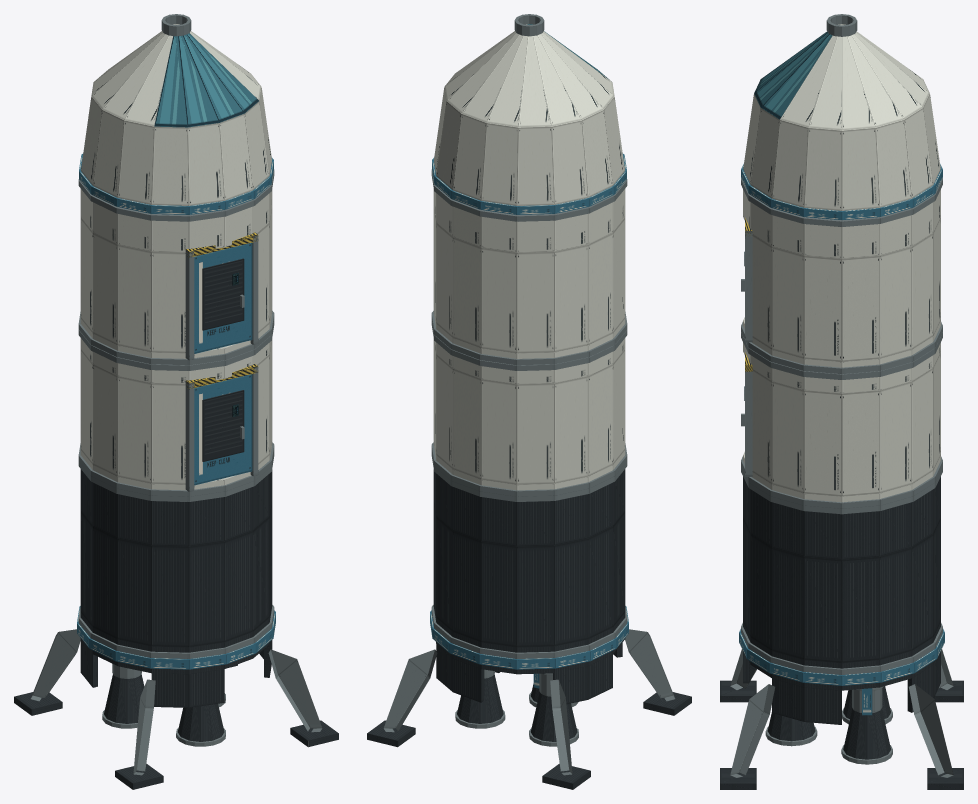
The model's file is rocket-wayfarer.glb.
3 views of the same model, side by side, from view 1: azimuth 30°, elevation 25°; view 2: azimuth 150°, elevation 25°; view 3: azimuth 270°, elevation 25° (orthographic). The views are drawn at different scales.
Parts seen in each view (by area): view 1: 02_TankSection_hull, 05_CommandCapsule_hull, 04_PassengerCabin_hull, 03_ServiceBay_hull, Door leaf (×2), 05_CommandCapsule_glass, 04_PassengerCabin_frame, Door inset (×2), 03_ServiceBay_frame, 01_Propulsion_hull, 02_TankSection_frame, LEG_01_landing_leg (+8 smaller); view 2: 02_TankSection_hull, 04_PassengerCabin_hull, 05_CommandCapsule_hull, 03_ServiceBay_hull, 01_Propulsion_hull, 04_PassengerCabin_frame, 03_ServiceBay_frame, 02_TankSection_frame, LEG_02_landing_leg, 01_Propulsion_frame, LEG_04_landing_leg, LEG_03_landing_leg (+5 smaller); view 3: 02_TankSection_hull, 04_PassengerCabin_hull, 05_CommandCapsule_hull, 03_ServiceBay_hull, 04_PassengerCabin_frame, 03_ServiceBay_frame, 01_Propulsion_hull, 02_TankSection_frame, ENGINE_02_engine, 05_CommandCapsule_glass, LEG_01_landing_leg, LEG_02_landing_leg (+7 smaller).
Part boxes in pixels (x1,y1,x2,y2): 02_TankSection_hull: (80,469,272,652); 05_CommandCapsule_hull: (81,24,271,205); 04_PassengerCabin_hull: (80,189,272,358); 03_ServiceBay_hull: (80,338,272,490); Door leaf (×2): (194,242,252,485); 05_CommandCapsule_glass: (154,33,258,127); 04_PassengerCabin_frame: (78,169,274,365); Door inset (×2): (202,258,244,461); 03_ServiceBay_frame: (78,320,274,496); 01_Propulsion_hull: (80,638,272,707); 02_TankSection_frame: (78,451,274,658); LEG_01_landing_leg: (268,649,338,747); 02_TankSection_hull: (433,469,625,652); 04_PassengerCabin_hull: (433,189,625,358); 05_CommandCapsule_hull: (434,24,624,205); 03_ServiceBay_hull: (433,338,625,490); 01_Propulsion_hull: (436,642,622,704); 04_PassengerCabin_frame: (431,169,627,365); 03_ServiceBay_frame: (431,320,627,496); 02_TankSection_frame: (431,451,627,658); LEG_02_landing_leg: (367,649,437,747); 01_Propulsion_frame: (430,606,628,669); LEG_04_landing_leg: (625,629,691,715); LEG_03_landing_leg: (542,679,590,789); 02_TankSection_hull: (743,476,940,668); 04_PassengerCabin_hull: (743,189,940,367); 05_CommandCapsule_hull: (743,24,940,210); 03_ServiceBay_hull: (743,342,940,502); 04_PassengerCabin_frame: (741,178,942,373); 03_ServiceBay_frame: (741,332,942,508); 01_Propulsion_hull: (743,651,940,724); 02_TankSection_frame: (741,467,942,674); ENGINE_02_engine: (843,686,890,759); 05_CommandCapsule_glass: (754,31,832,119); LEG_01_landing_leg: (720,684,775,789); LEG_02_landing_leg: (908,684,963,789).
Bounding box in the file's own units: 4.81 × 15.63 × 4.81.
1 material, 1 textured.
